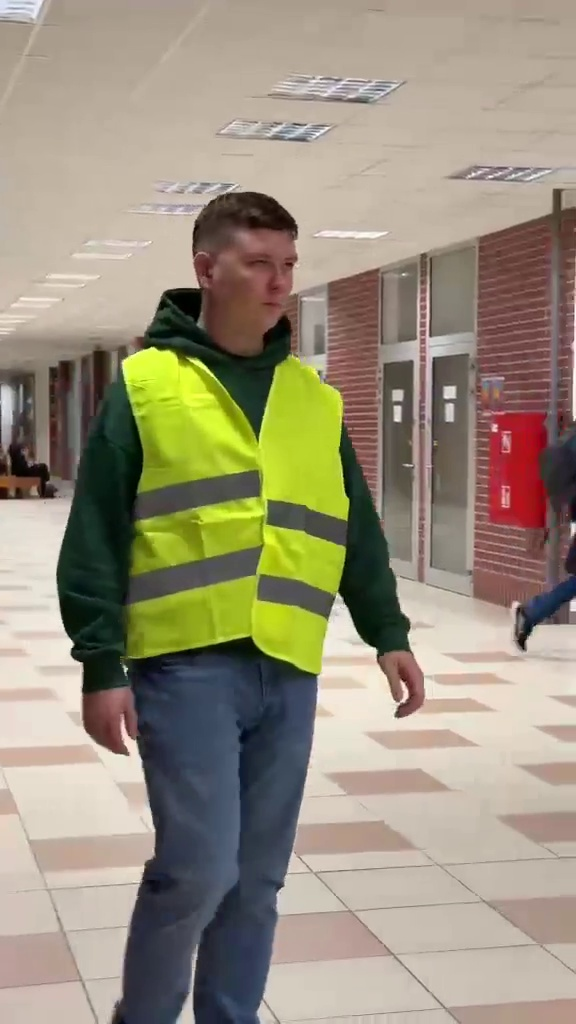vest: (58, 191, 433, 1003)
